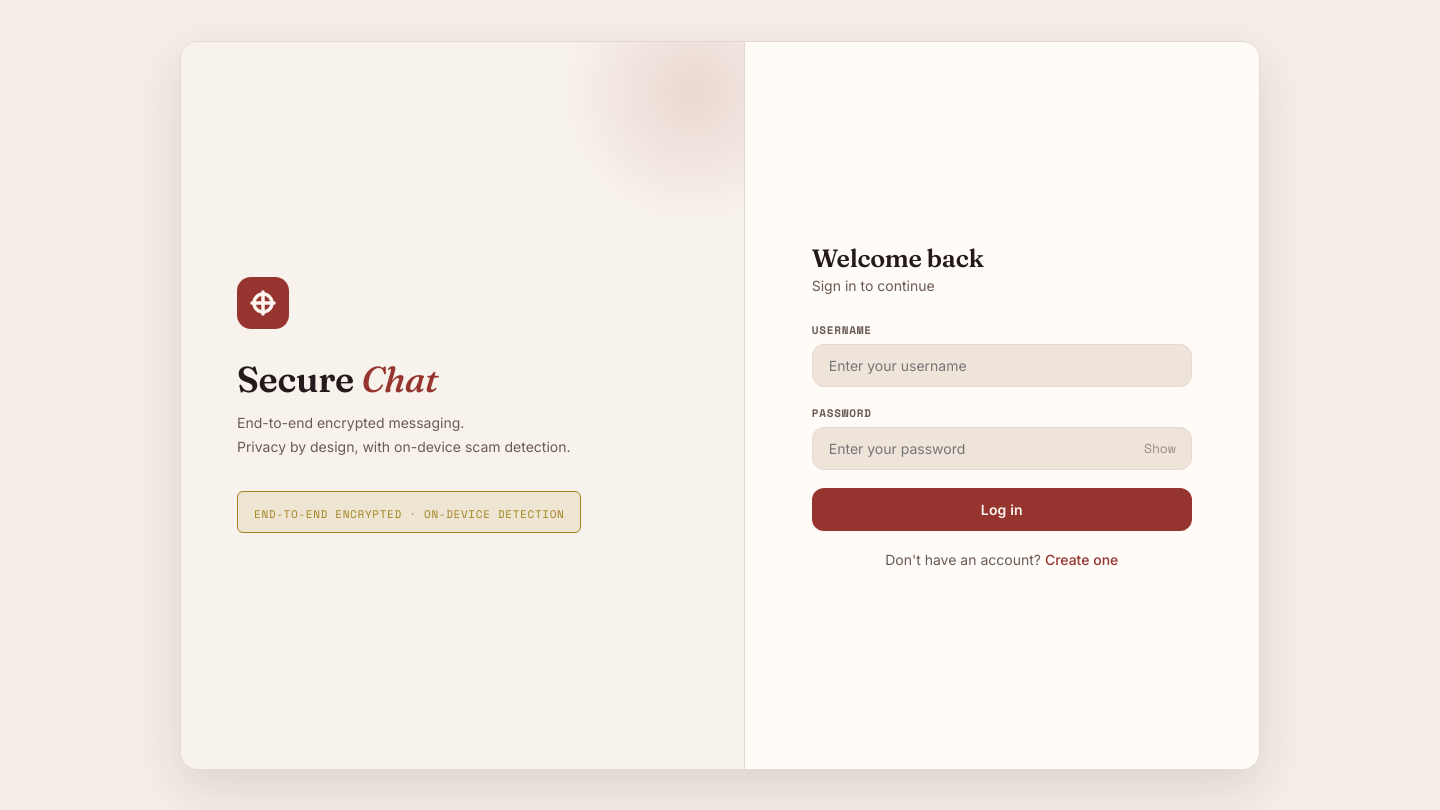
Test case: AuthScreen › registers an account through the backend and switches to login
The image size is (1440, 810).
Click the button "Create one". click: (1082, 559)
box: [1045,550,1118,568]
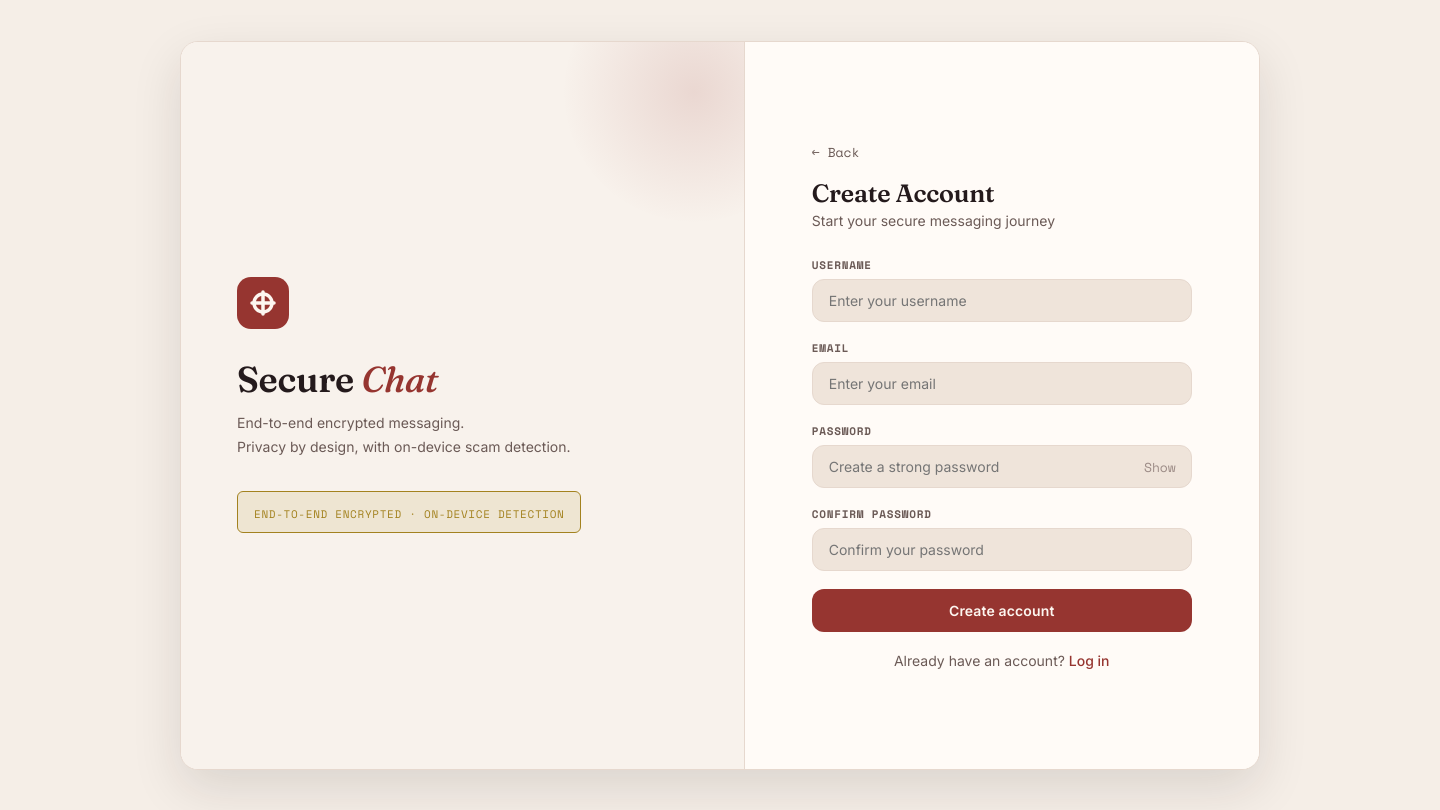
Type "alice" into the field labelled "Username". click: (1002, 300)
box: [812,279,1192,322]
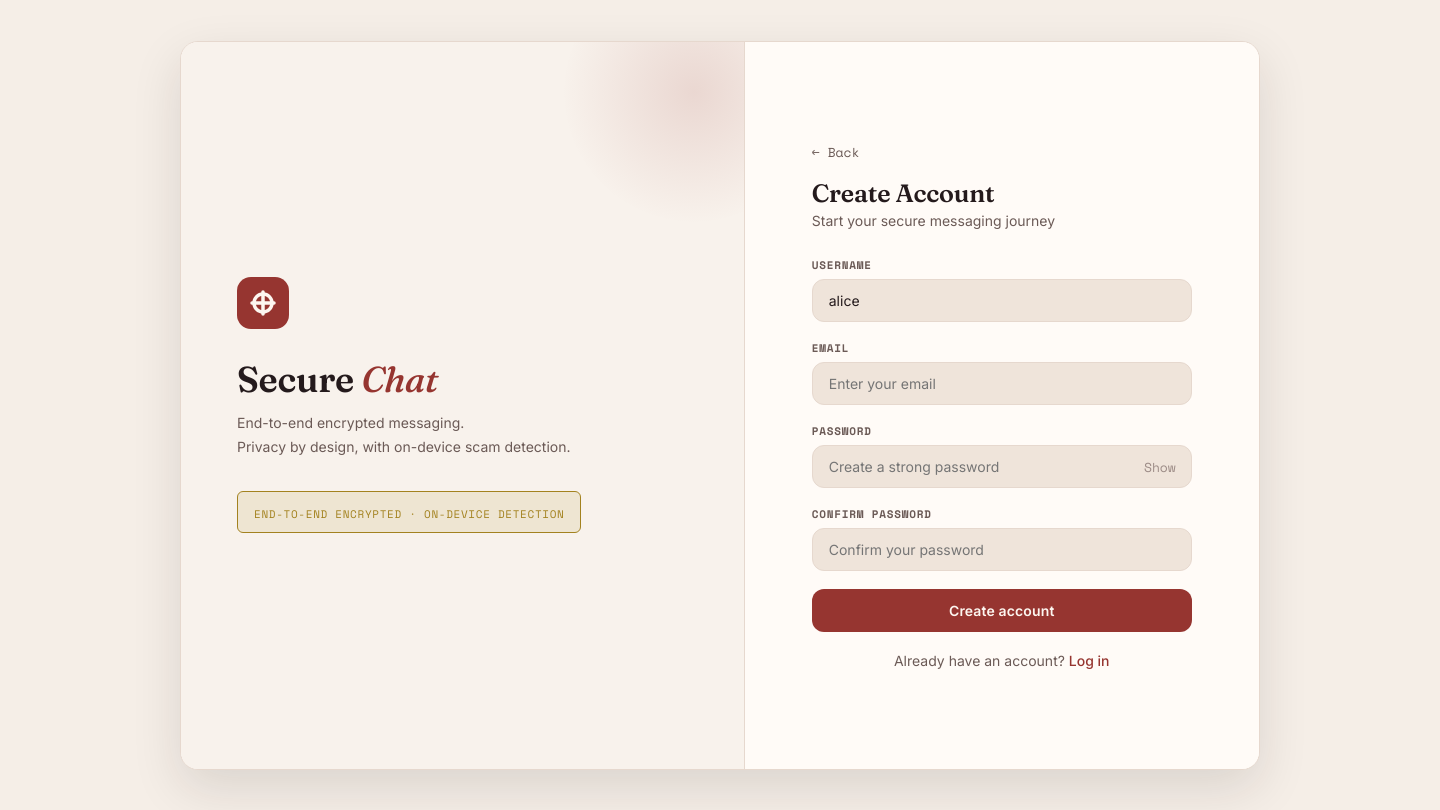
Type "alice@example.com" into the field labelled "Email". click: (1002, 384)
box: [812,362,1192,405]
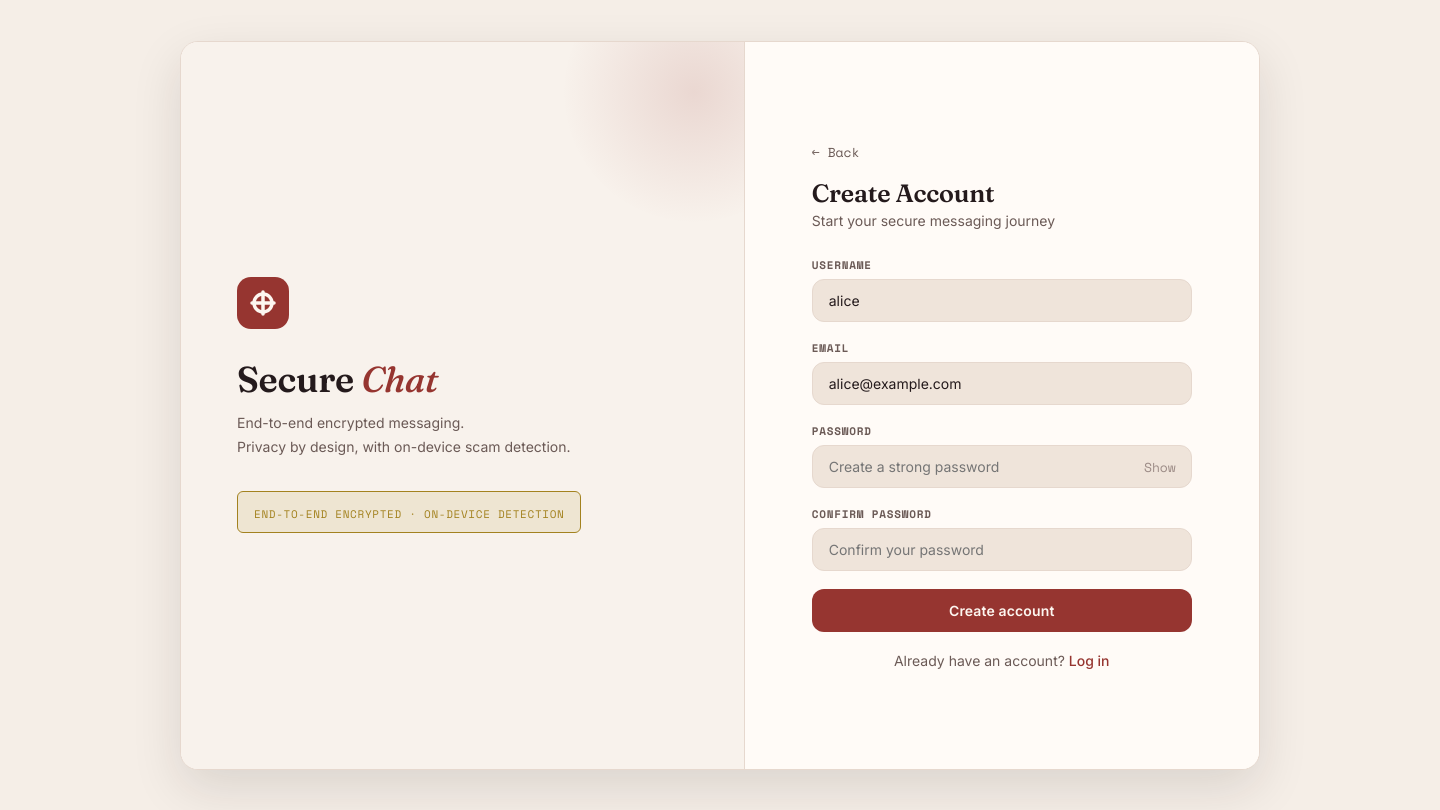
Type "correct horse battery staple" into the password field labelled "Password". click: (1002, 466)
box: [812,445,1192,488]
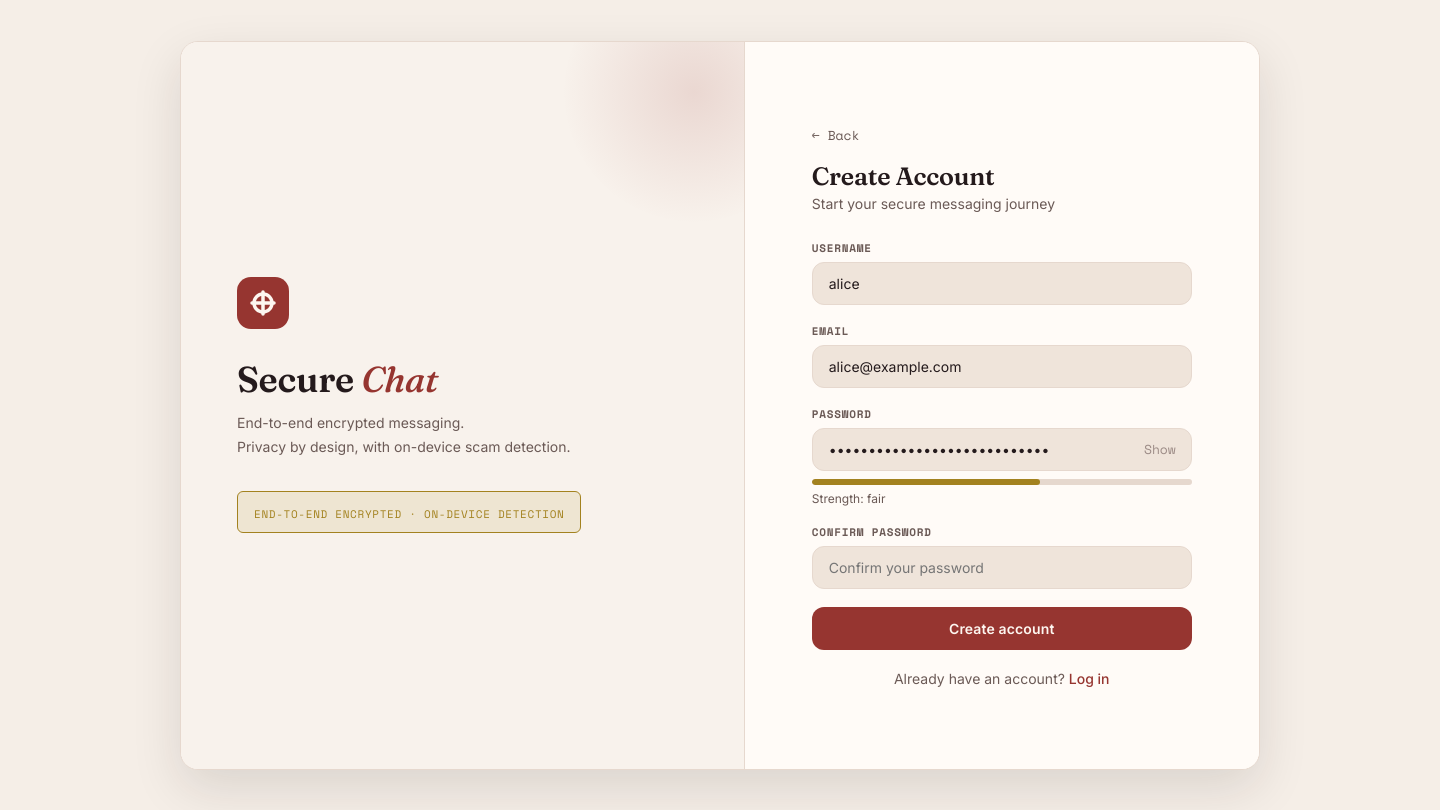
Type "correct horse battery staple" into the password field labelled "Confirm password". click: (1002, 567)
box: [812,546,1192,588]
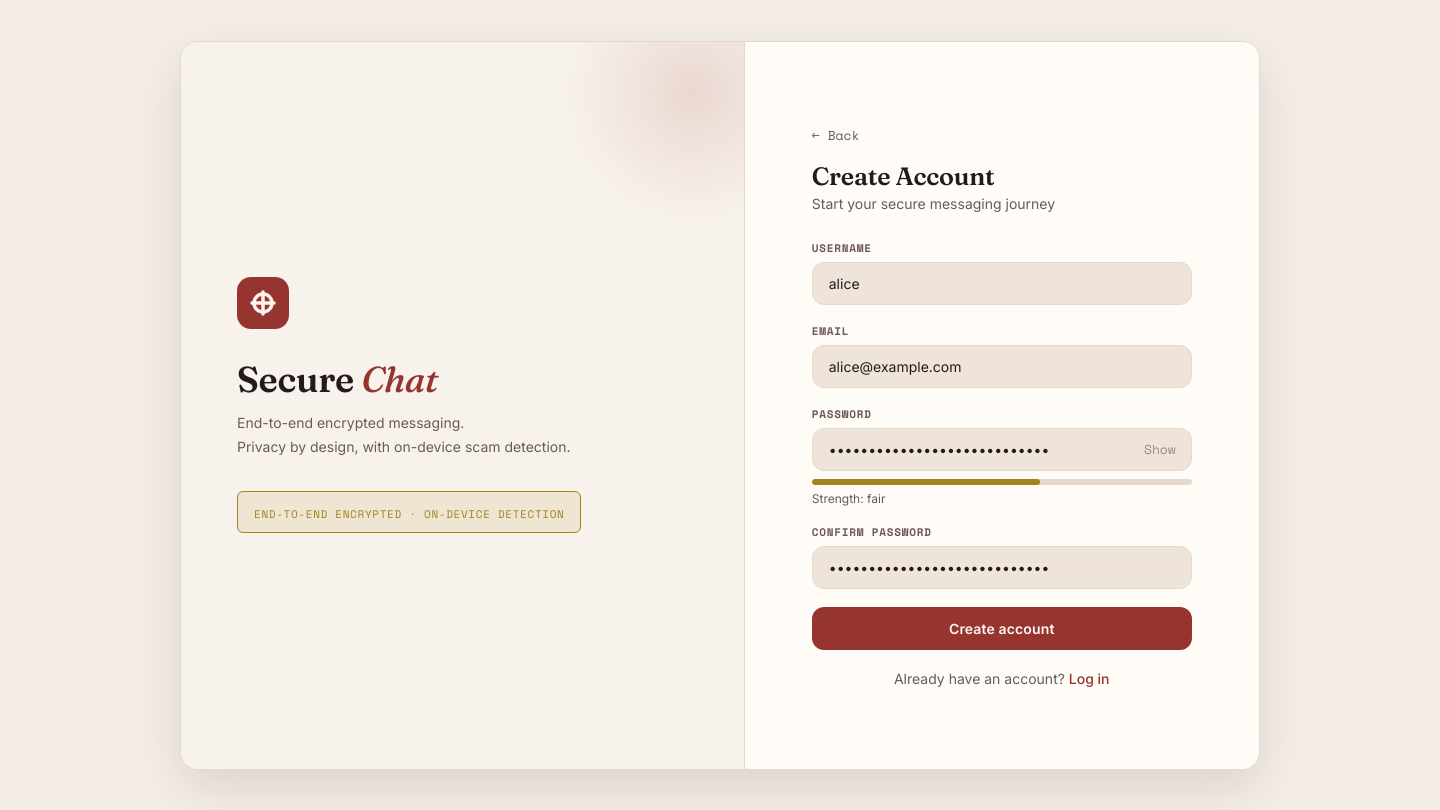
Click the button "Create account". click: (1002, 628)
box: [812,606,1192,650]
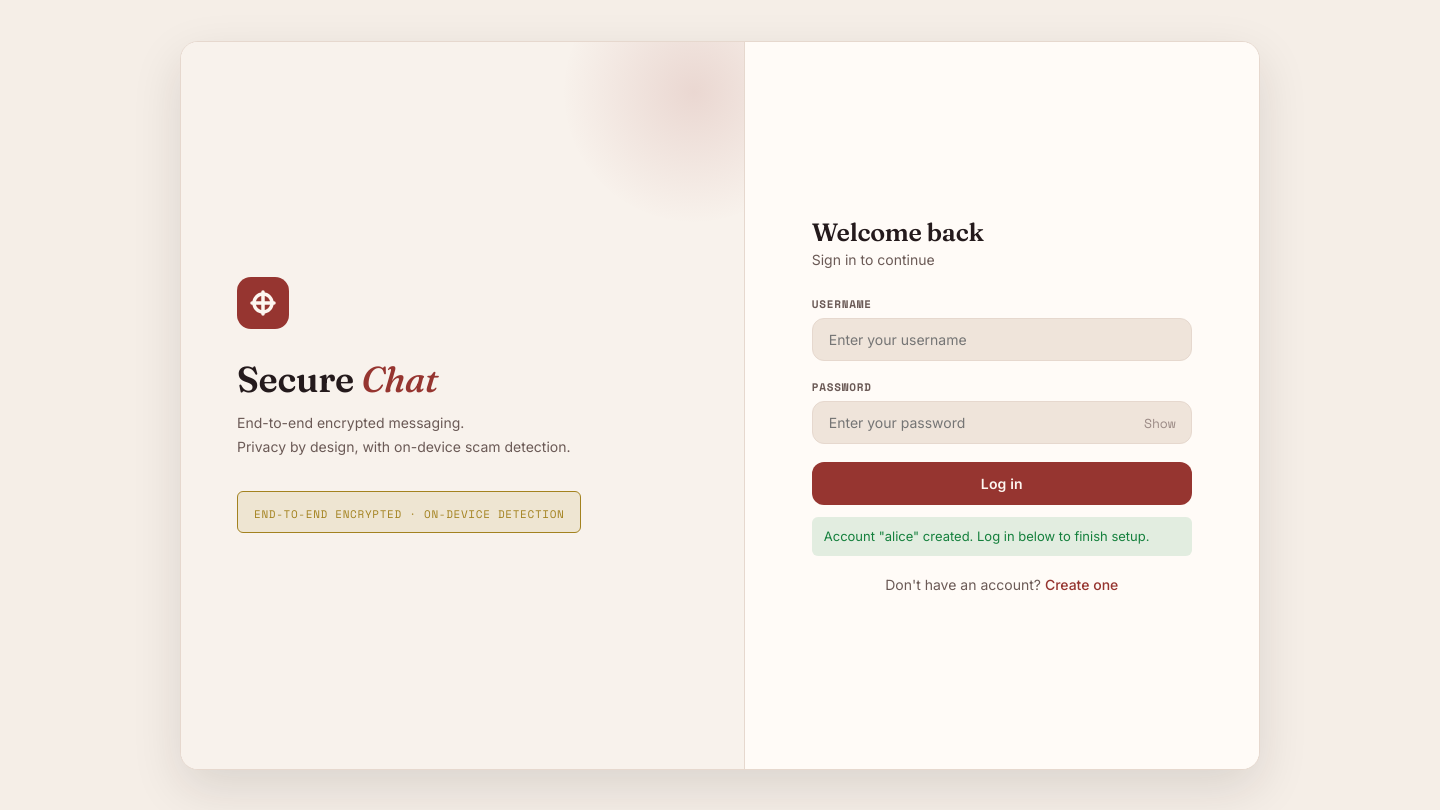
Result: the text "Account \"alice\" created. Log in below to finish setup." is shown at [812,517,1192,556]
Result: the label labelled "Email" is gone
